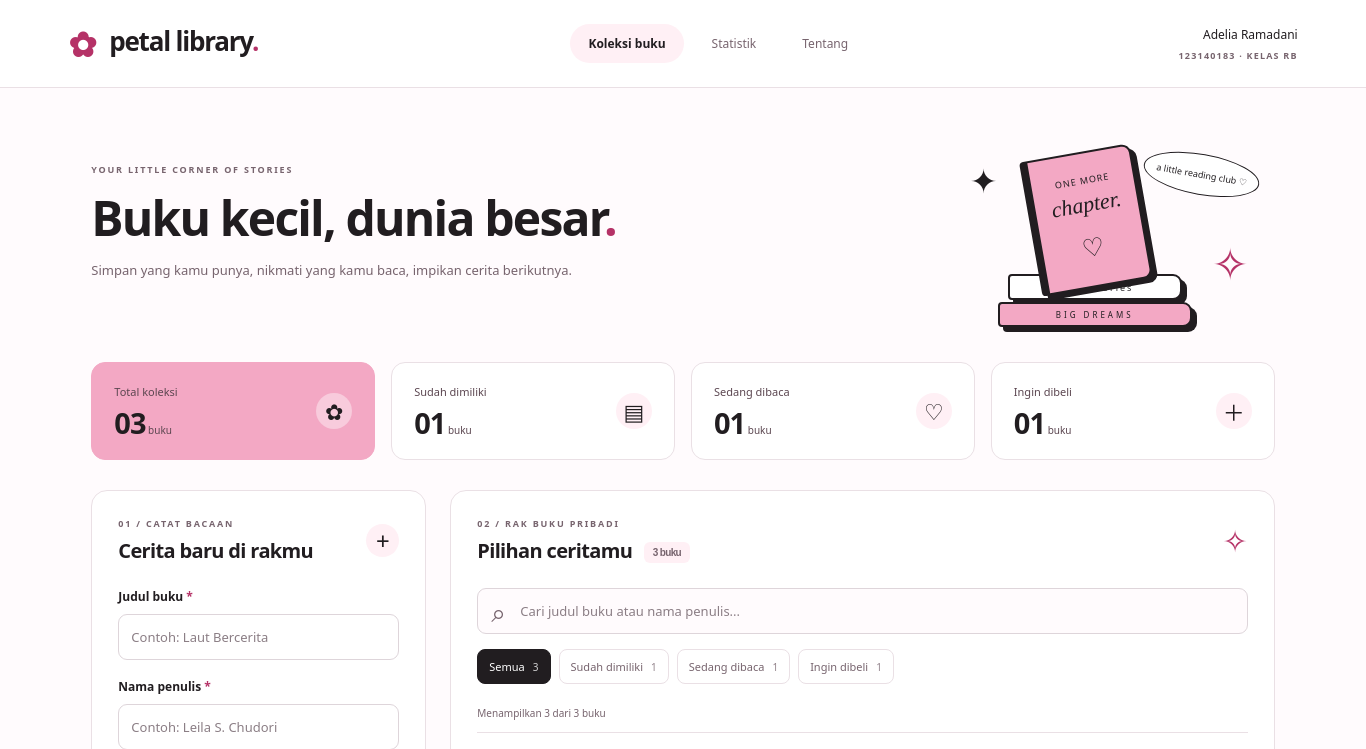
Test: navigasi statistik memakai data global dan halaman tentang menampilkan identitas
Click the link "Statistik". click: (734, 44)
box: [712,35,756,52]
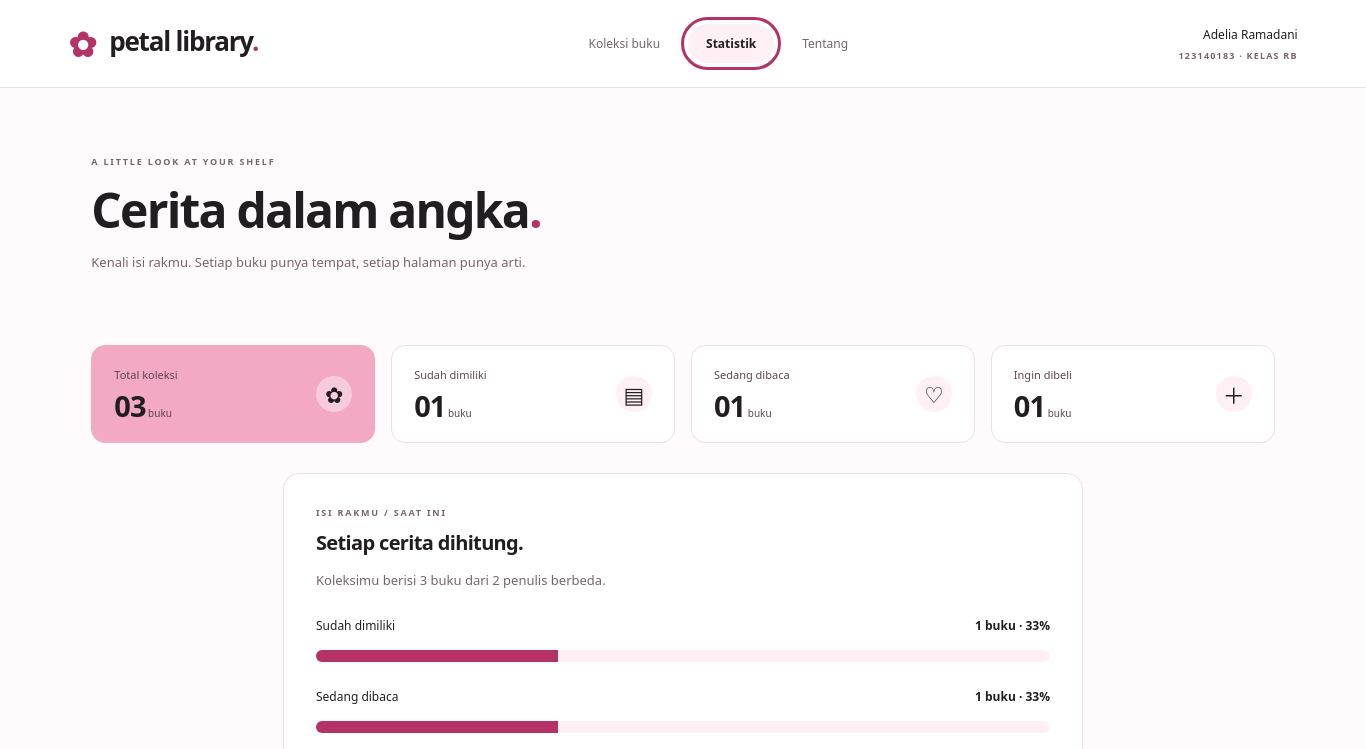
expect the text "Koleksimu berisi 3 buku dari 2 penulis berbeda." is shown: met, box [316,571,606,589]
expect the number of progress indicators is 3: met
Click the link "Tentang". click: (825, 44)
box: [802,35,848,52]
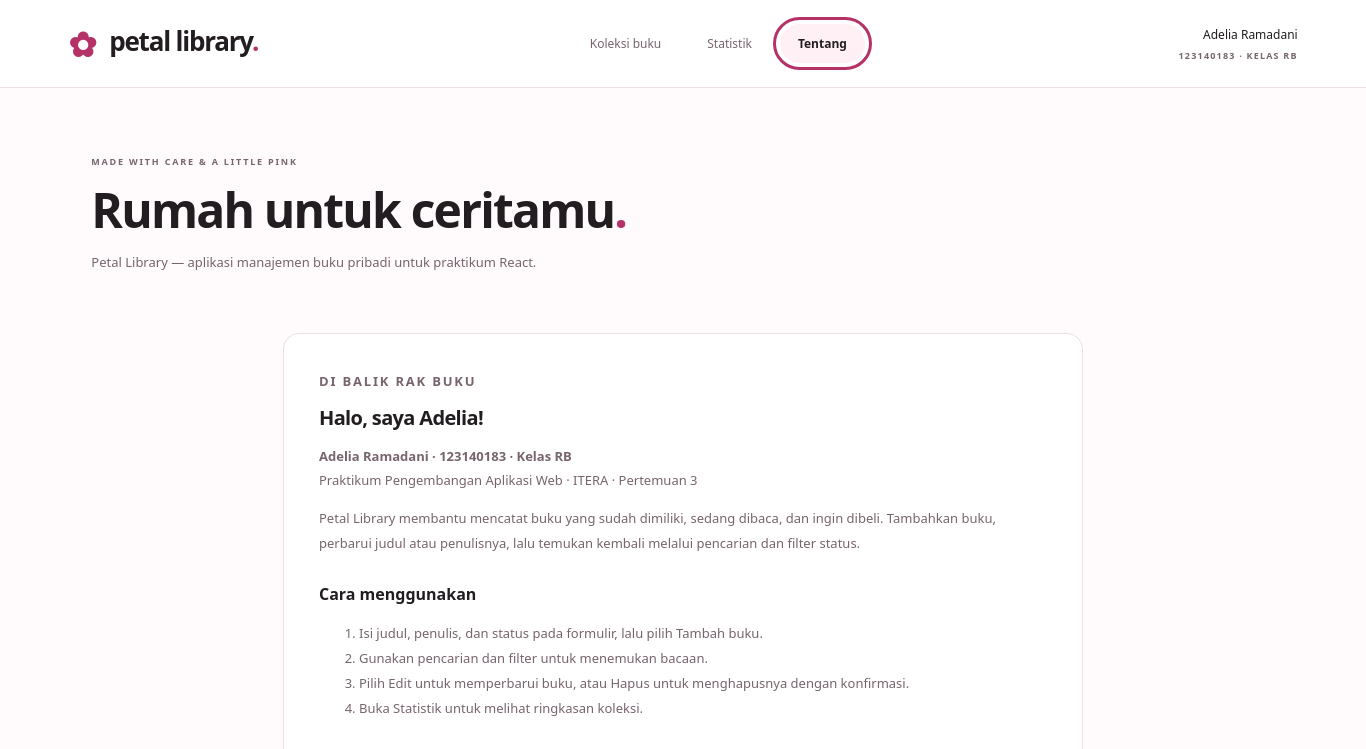
expect the text "Adelia Ramadani · 123140183 · Kelas RB" is shown: met, box [319,447,572,465]
